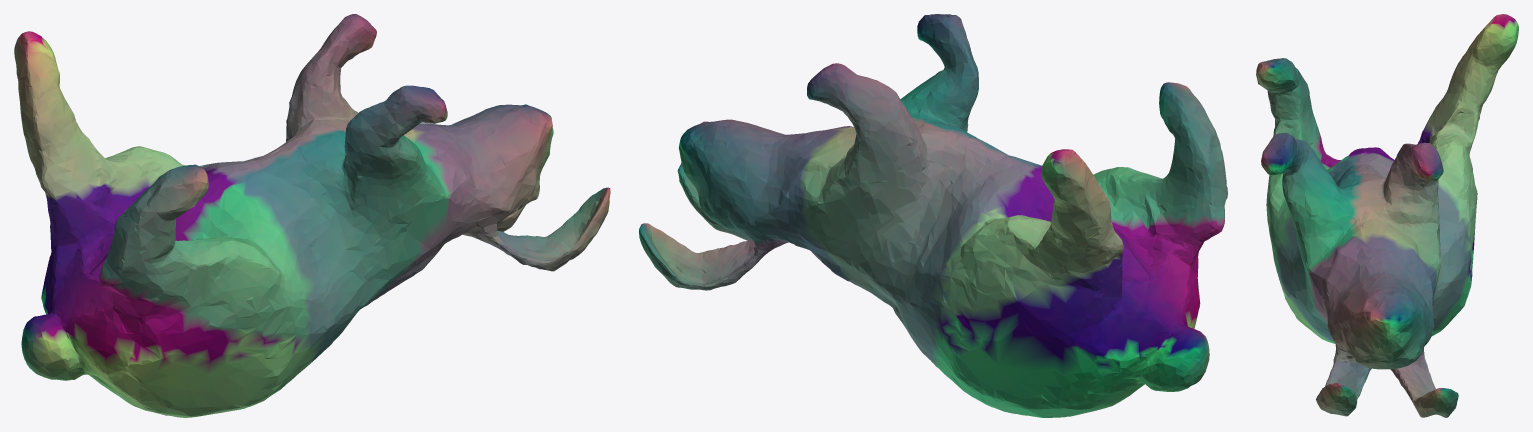
Rendered from rabbit-15.off.obj.
The picture shows the model from 3 angles, left to right: view 1: azimuth 30°, elevation 25°; view 2: azimuth 150°, elevation 25°; view 3: azimuth 270°, elevation 25°; orthographic projection. The views are drawn at different scales.
Size of the model in its own units: 1.58 by 0.9312 by 0.7632.
